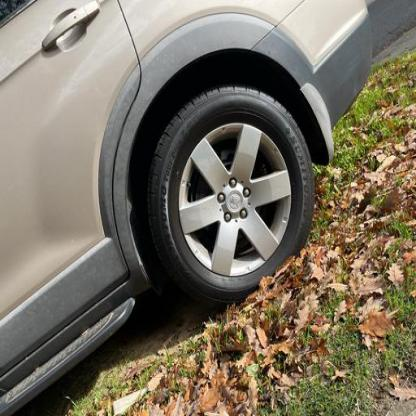Tire: (146, 85, 314, 308)
